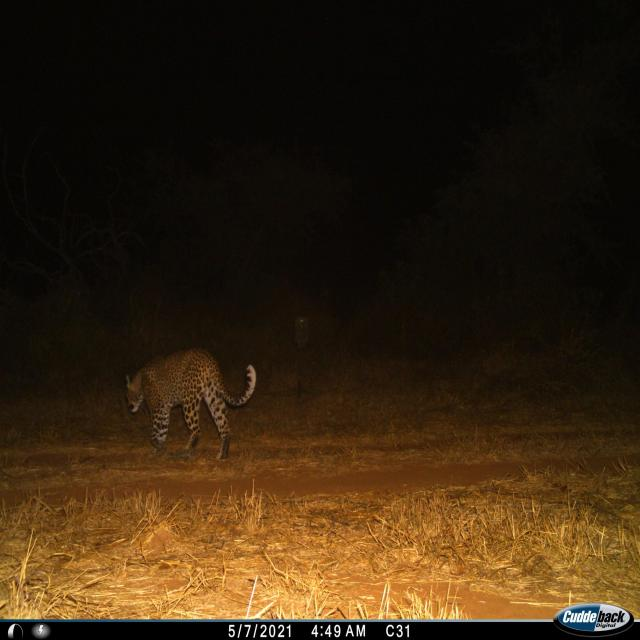Leopard: (120, 345, 257, 461)
